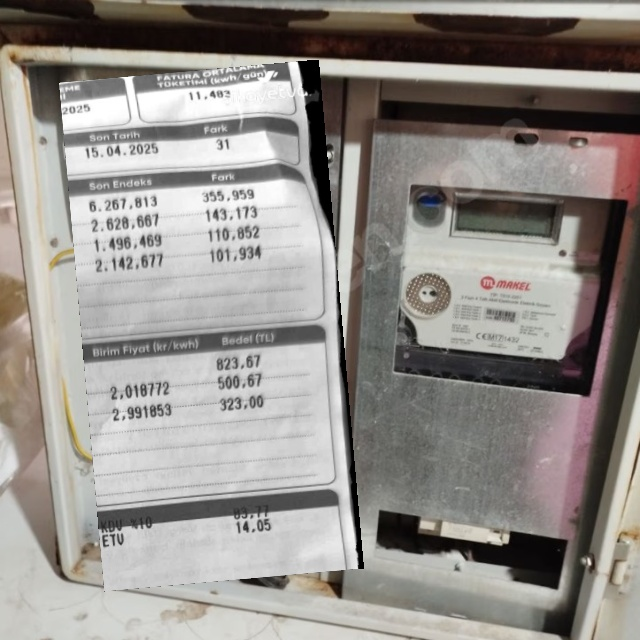electricity-bill: (59, 60, 364, 592)
